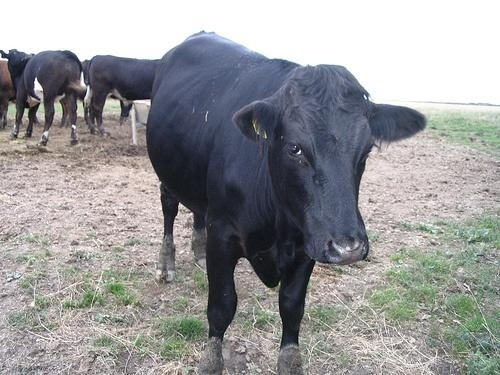cow: (143, 30, 431, 375), (8, 50, 82, 143), (84, 54, 160, 139)
